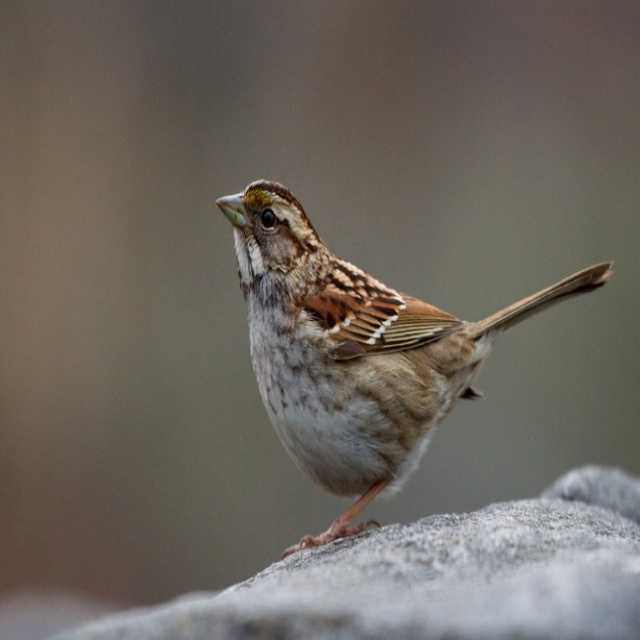Sparrow: (214, 174, 613, 560)
